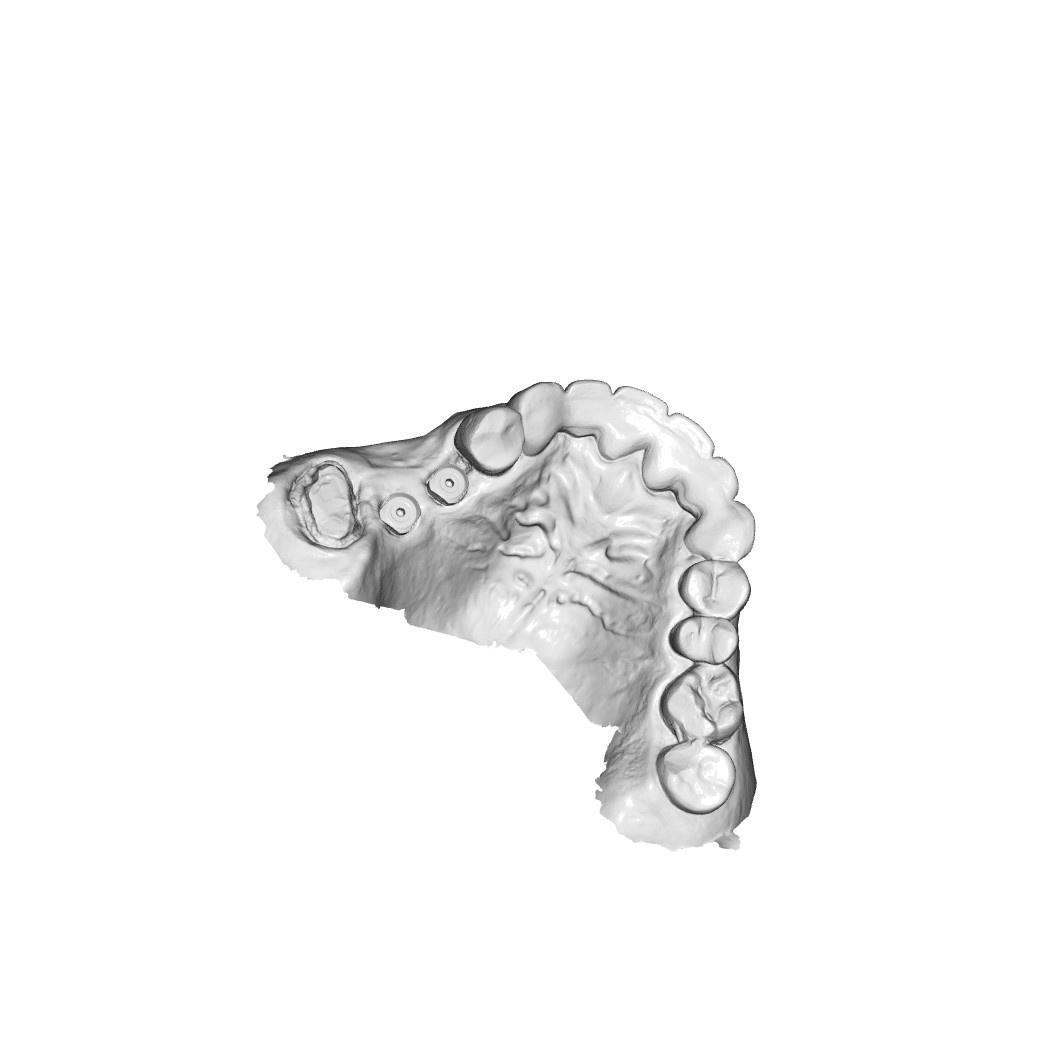canine: (684, 505, 759, 560), (517, 380, 566, 454)
crown: (295, 460, 367, 549)
implant: (429, 465, 470, 514), (380, 492, 422, 537)
incisor: (641, 413, 718, 487), (600, 383, 664, 459), (677, 457, 736, 509), (568, 373, 614, 439)
molar: (658, 665, 747, 741), (655, 742, 739, 816)
premolar: (457, 402, 523, 473), (676, 560, 753, 619), (667, 614, 744, 666)
